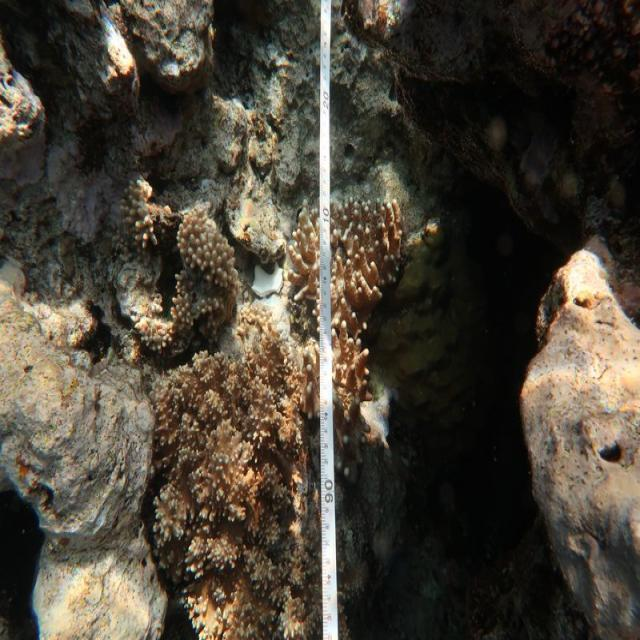Healthy Coral: (145, 365, 324, 640), (295, 179, 400, 409), (122, 178, 244, 350)
